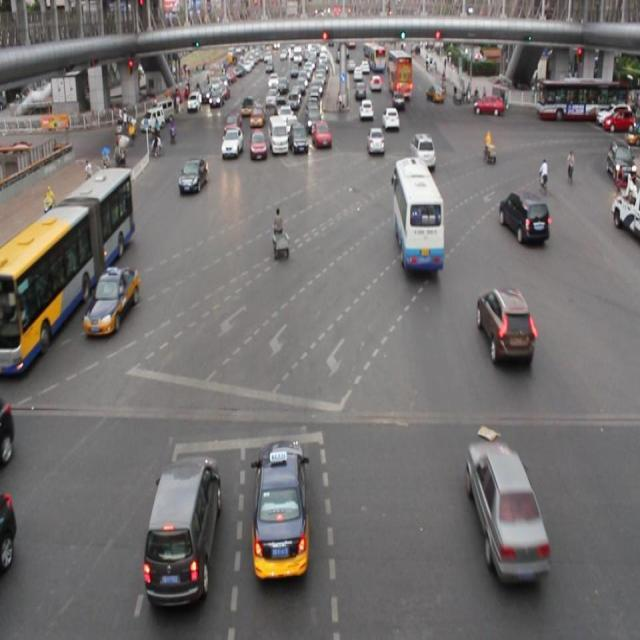BigCar: (4, 159, 130, 333), (385, 160, 454, 287), (529, 68, 637, 122)
car: (456, 433, 557, 584), (144, 443, 217, 595), (469, 284, 549, 389), (254, 426, 308, 580), (89, 258, 144, 342), (502, 184, 550, 255), (175, 146, 208, 212), (402, 128, 440, 171), (218, 124, 244, 168), (315, 114, 334, 158), (367, 119, 387, 160), (252, 120, 269, 164), (294, 120, 310, 164), (272, 112, 284, 164)
